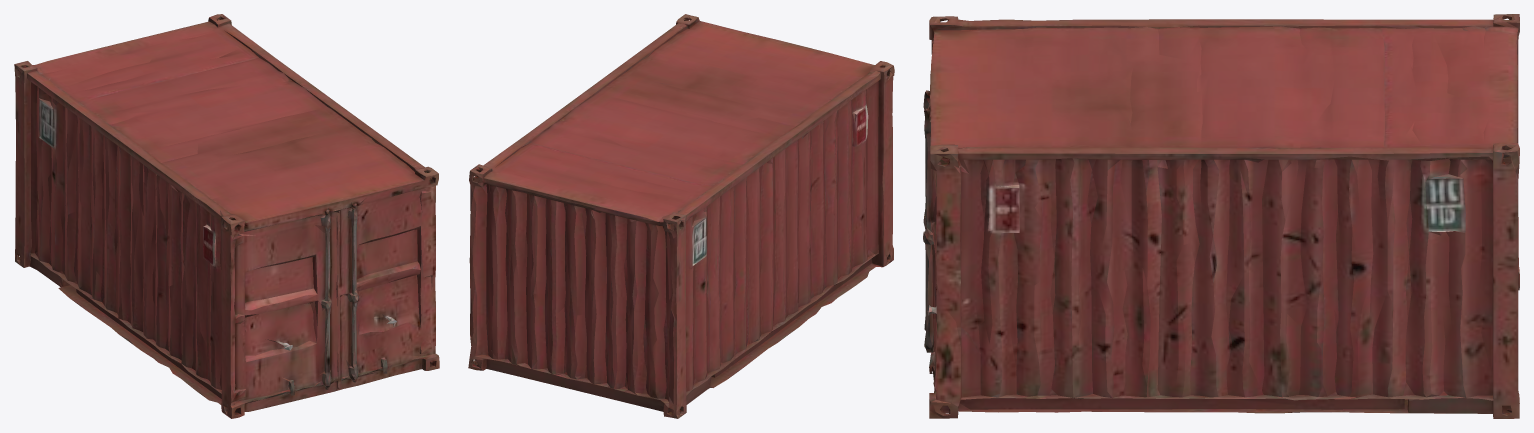
Rendered from container.glb.
3 views of the same model, side by side, from view 1: azimuth 30°, elevation 25°; view 2: azimuth 150°, elevation 25°; view 3: azimuth 270°, elevation 25° (orthographic). The views are drawn at different scales.
Visible parts, largest first — view 1: container; view 2: container; view 3: container.
Boxes of the visible parts, bbox=[...] form: container: bbox=[14, 14, 439, 418]; container: bbox=[468, 14, 894, 418]; container: bbox=[923, 14, 1519, 418].
Bounding box in the file's own units: 2.44 × 2.2 × 4.44.
1 material, 1 textured.
